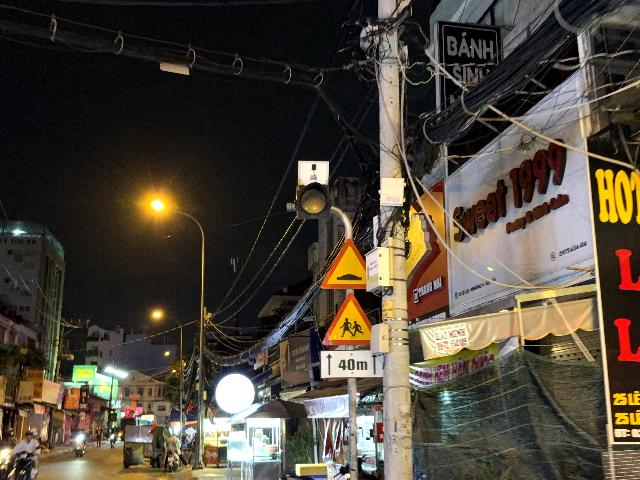duong-co-go-giam-toc: (320, 237, 366, 289)
tre-em-qua-duong: (323, 293, 373, 345)
